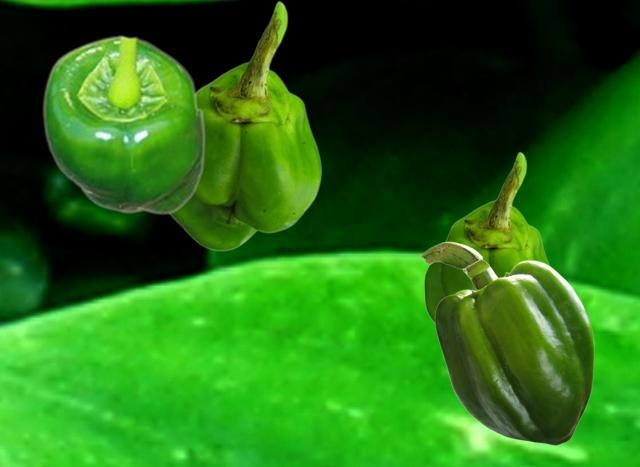bell_pepper: (169, 0, 321, 250), (420, 241, 593, 444), (41, 34, 205, 214), (423, 151, 550, 323)
